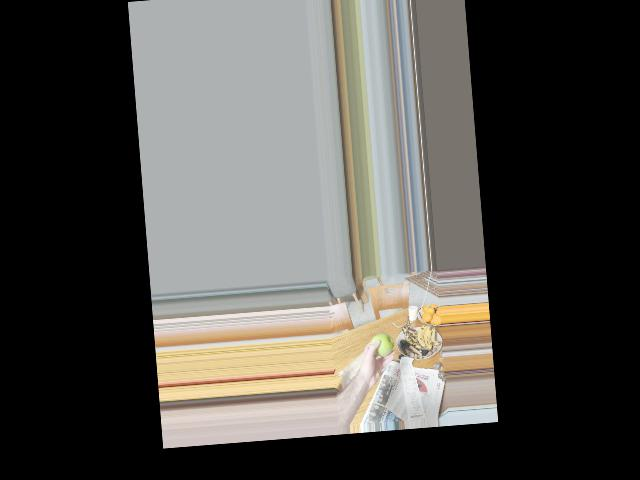apple: (368, 331, 395, 361)
